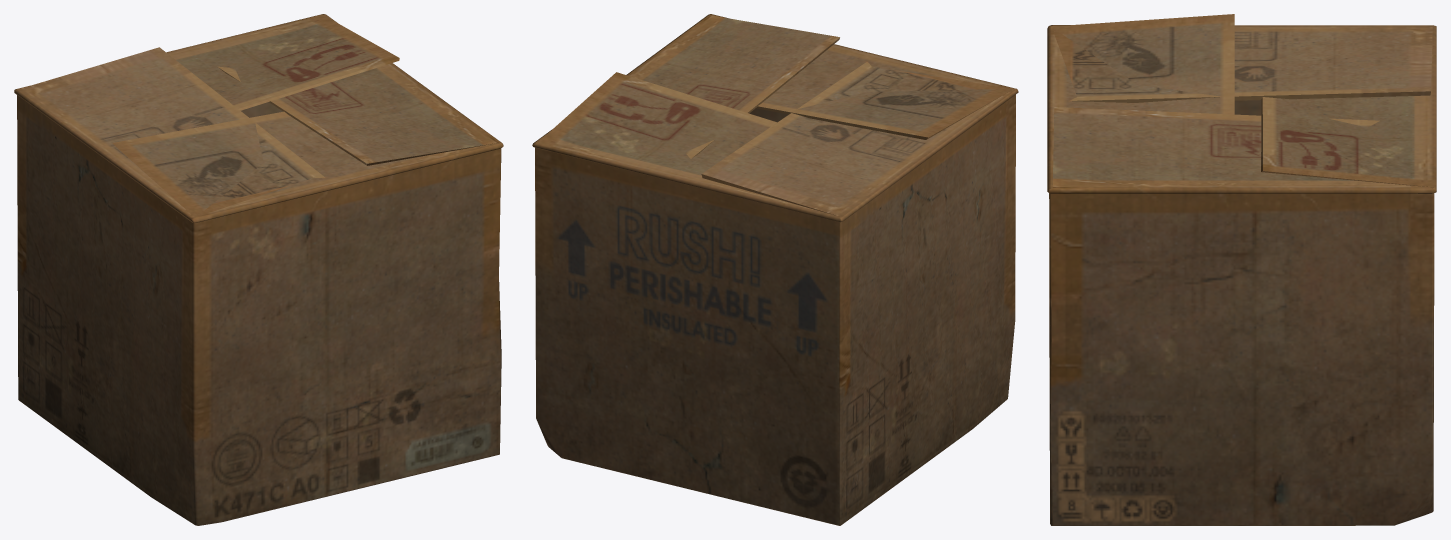
Rendered from CardboardBox_VarC.fbx.
3 renders of one model, left to right at view 1: azimuth 30°, elevation 25°; view 2: azimuth 150°, elevation 25°; view 3: azimuth 270°, elevation 25°, orthographic. The views are drawn at different scales.
Parts seen in each view (by area): view 1: CardboardBox_VarC_LOD0; view 2: CardboardBox_VarC_LOD0; view 3: CardboardBox_VarC_LOD0.
Part boxes in pixels (x1,y1,x2,y2): CardboardBox_VarC_LOD0: [14, 14, 503, 525]; CardboardBox_VarC_LOD0: [532, 14, 1018, 525]; CardboardBox_VarC_LOD0: [1047, 14, 1436, 525].
Size of what is drawn, in the model's own units: 68.39 by 68.23 by 68.08.
